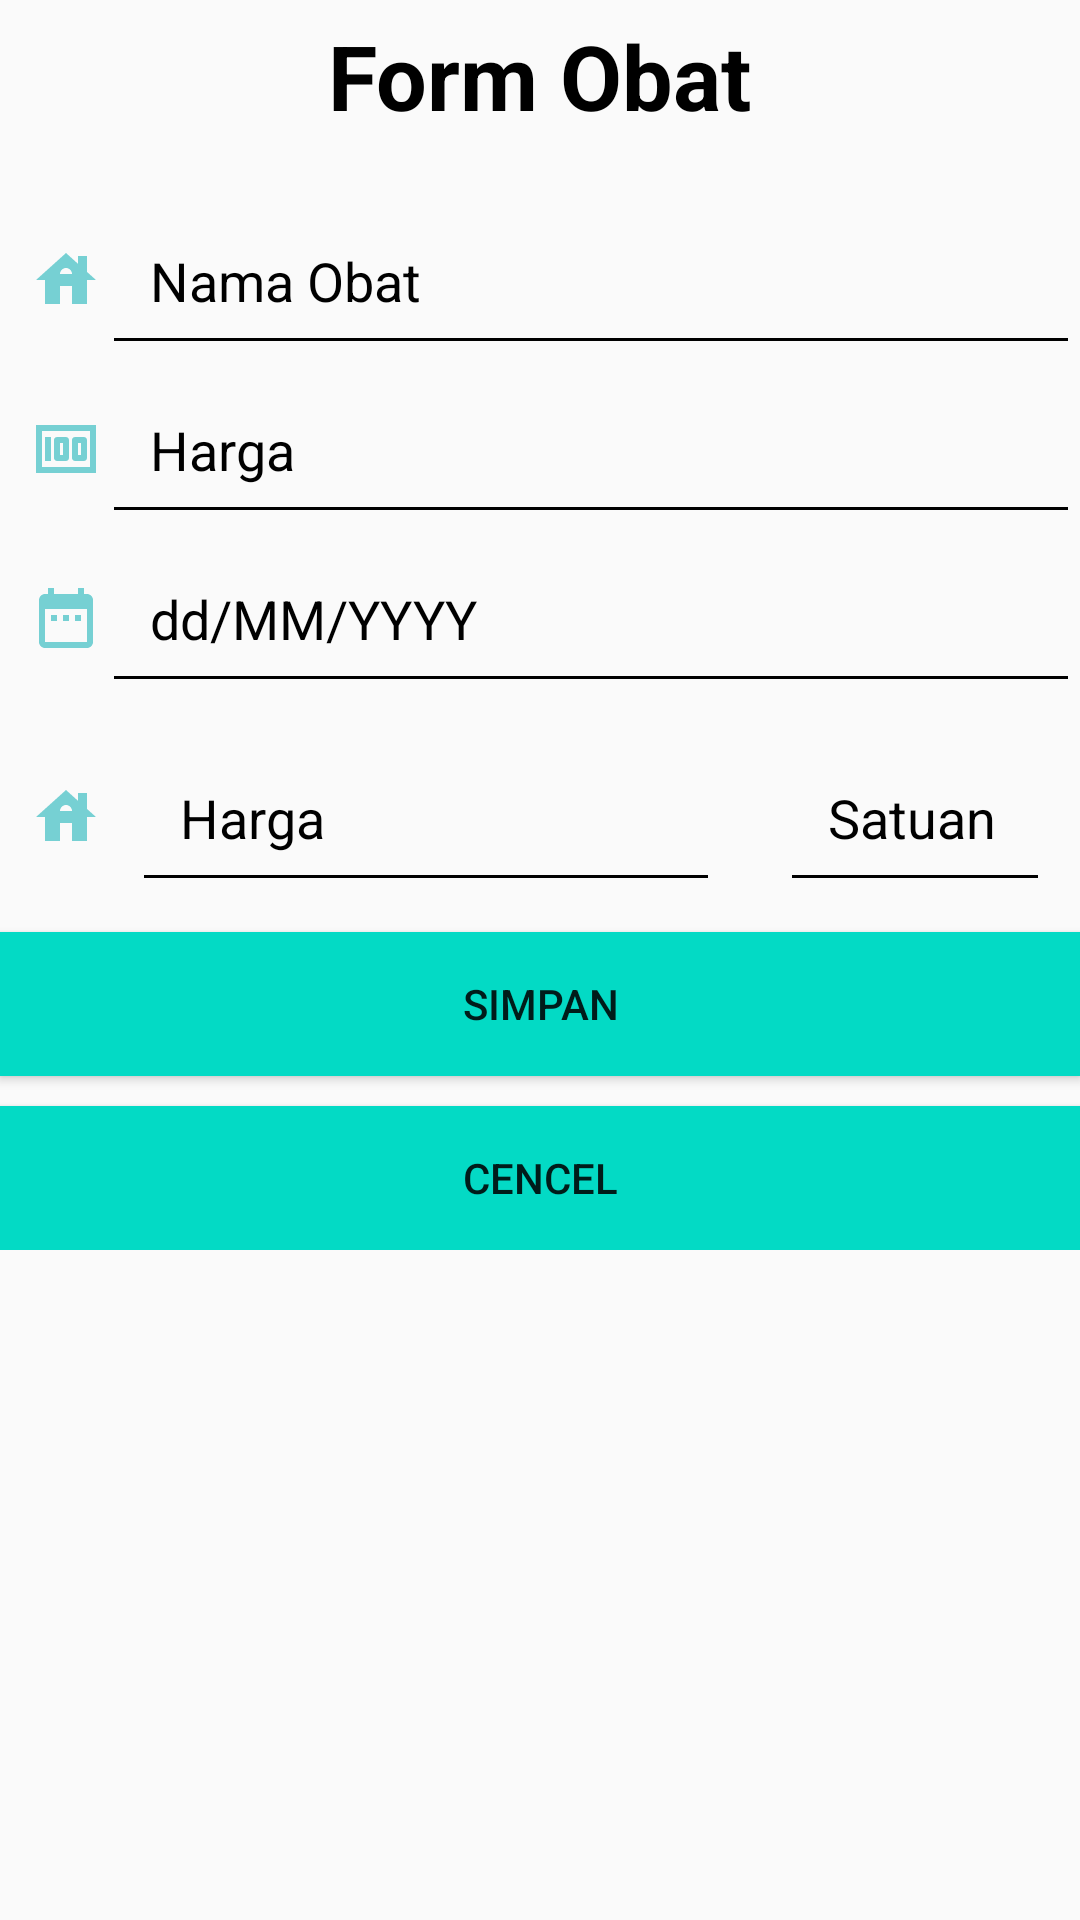

Named icons in this screenshot (1080w x 1920h) and their centers, point (x, y):
house: point (66, 278), point (66, 815)
money: point (66, 449)
tgllahir: point (66, 618)
